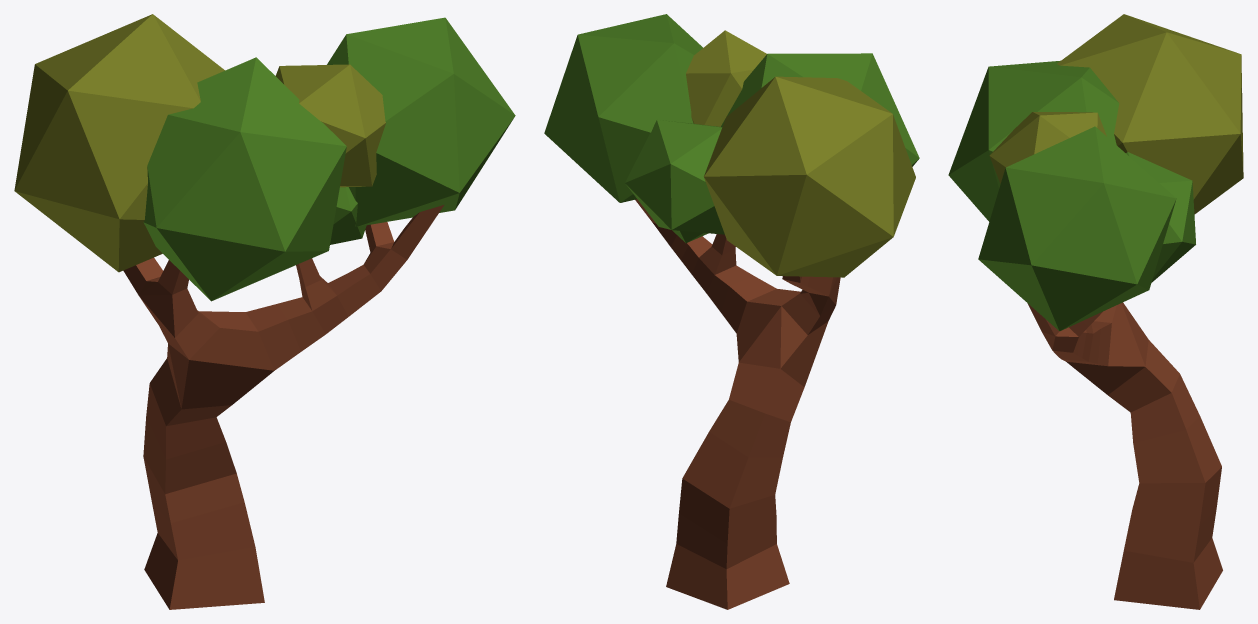
File: tree1.fbx
3 renders of one model, left to right at view 1: azimuth 30°, elevation 25°; view 2: azimuth 150°, elevation 25°; view 3: azimuth 270°, elevation 25°, orthographic. The views are drawn at different scales.
Visible parts, largest first — view 1: Cube, Icosphere.002, Icosphere.003, Icosphere.001, Icosphere.005, Icosphere.004; view 2: Cube, Icosphere.003, Icosphere.001, Icosphere, Icosphere.002, Icosphere.005; view 3: Icosphere.001, Cube, Icosphere.003, Icosphere.002, Icosphere.005, Icosphere.
Part boxes in pixels (x1,y1,x2,y2): Cube: [123, 205, 443, 609]; Icosphere.002: [143, 57, 346, 301]; Icosphere.003: [14, 14, 224, 272]; Icosphere.001: [327, 17, 515, 226]; Icosphere.005: [275, 64, 385, 187]; Icosphere.004: [330, 187, 366, 244]; Cube: [635, 199, 840, 609]; Icosphere.003: [704, 76, 915, 277]; Icosphere.001: [544, 14, 702, 202]; Icosphere: [625, 120, 724, 234]; Icosphere.002: [721, 53, 919, 166]; Icosphere.005: [686, 30, 766, 126]; Icosphere.001: [978, 126, 1176, 331]; Cube: [1027, 302, 1222, 609]; Icosphere.003: [1057, 14, 1243, 214]; Icosphere.002: [948, 60, 1119, 221]; Icosphere.005: [989, 112, 1106, 183]; Icosphere: [1126, 152, 1195, 282].
Size of the model in its own units: 172 by 228 by 115.
